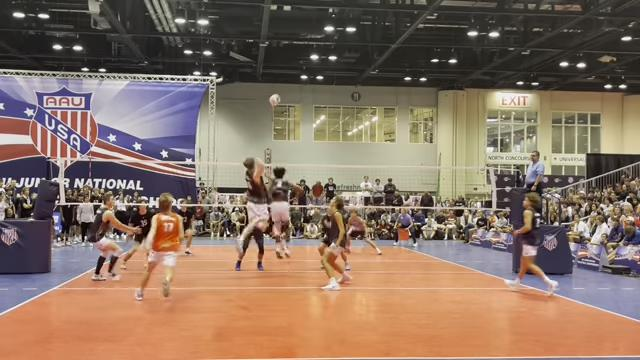Attack: (231, 152, 268, 254)
Player: (505, 192, 557, 294), (135, 193, 183, 300), (88, 193, 140, 280), (269, 167, 303, 258), (321, 197, 351, 290), (120, 200, 154, 269), (347, 209, 381, 254), (178, 200, 193, 254), (318, 214, 330, 256)
ball: (269, 92, 280, 108)
